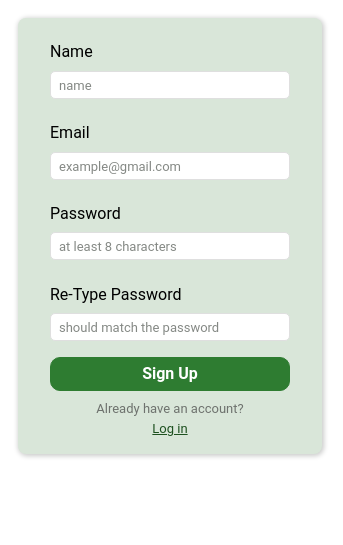
Scenario: Loading Sign Up Form › Password Is Invalid
Type "hjbfg" into the password field labelled "Password" at (170, 246), box x1=50 y1=232 x2=290 y2=260
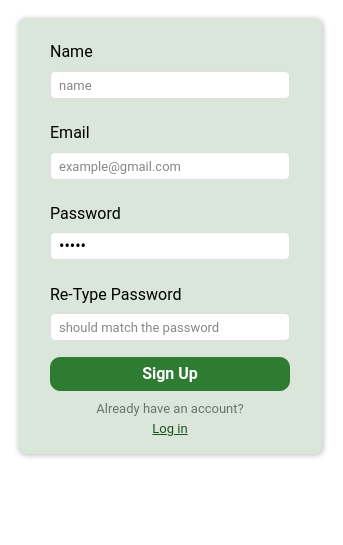
Click the button at (170, 374), box x1=50 y1=357 x2=290 y2=391
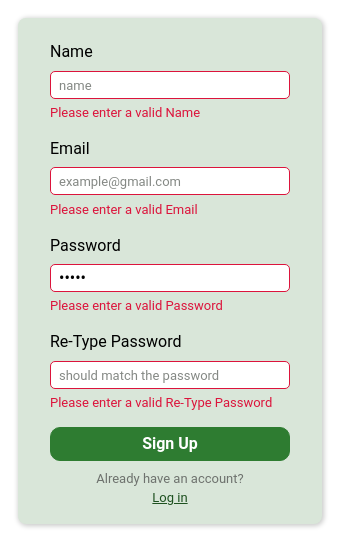
Expected: the text "Please enter a valid Password" is shown, x1=50 y1=298 x2=223 y2=313
